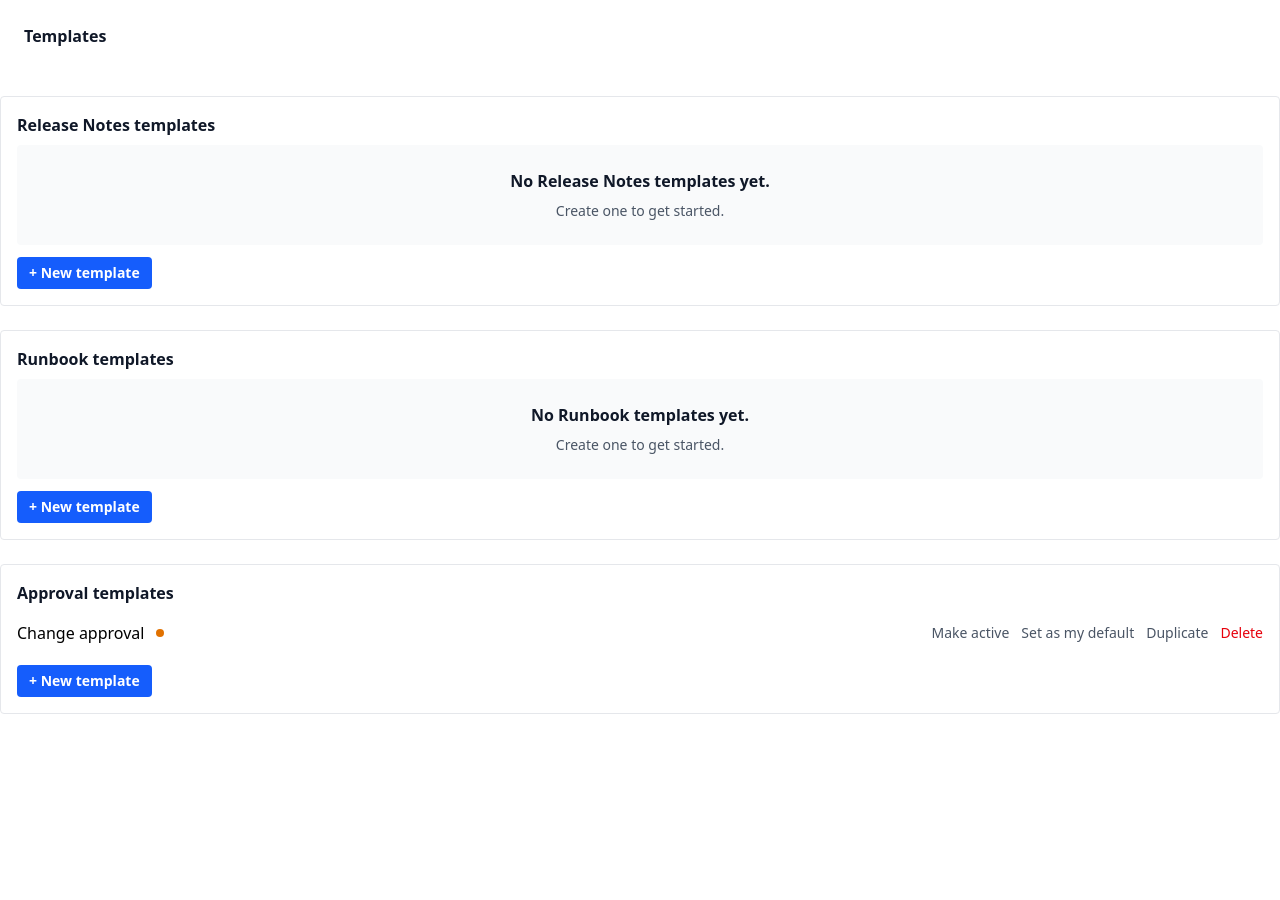
TemplatesRoute › opens the delete dialog for a non-active template without the active-template warning sentence
This screenshot has width=1280, height=900.
Click the button "Delete" at (1242, 633), box [1220, 623, 1263, 643]
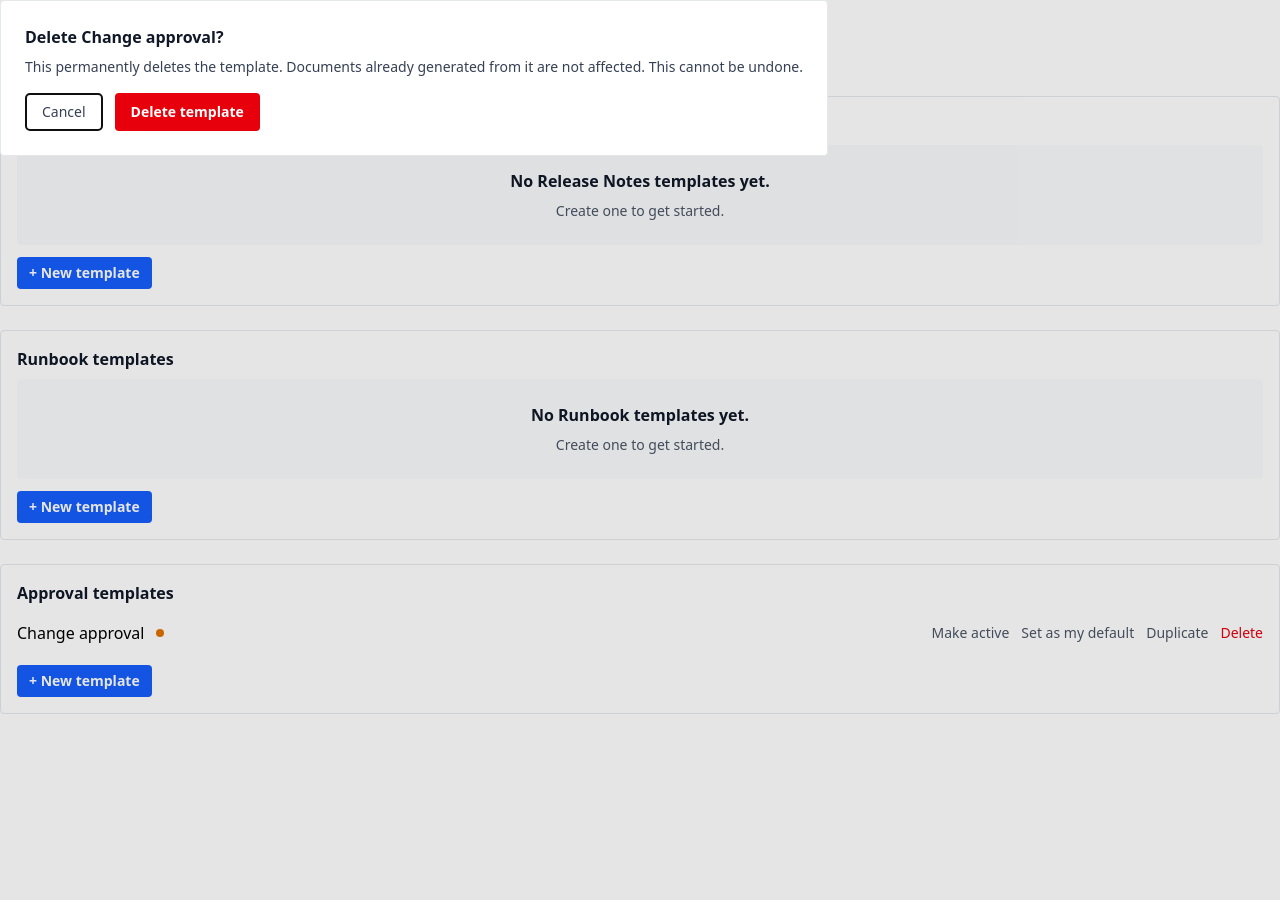
Expected: the dialog shows "Documents already generated from it are not affected.", [25, 57, 803, 76]
